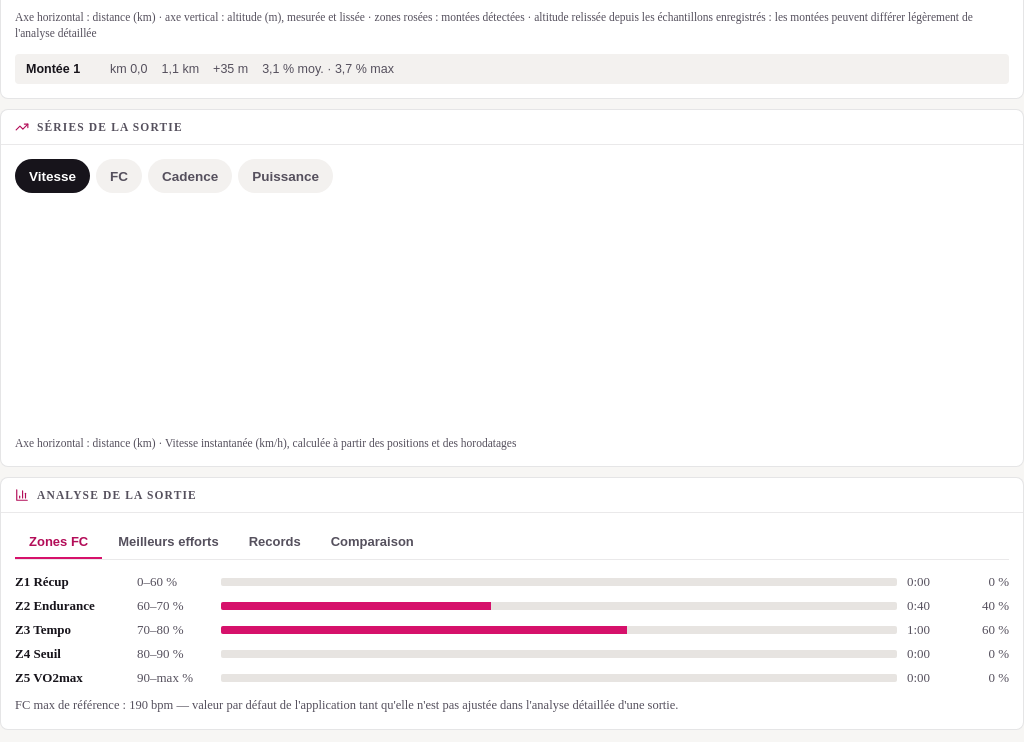
Test: CockpitDashboard — analyse › records : liste les records de l'historique et signale la sortie qui en détient un
This screenshot has width=1024, height=742.
(page scrolled)
Click the tab "Records": click(275, 542) [235,526,315,559]
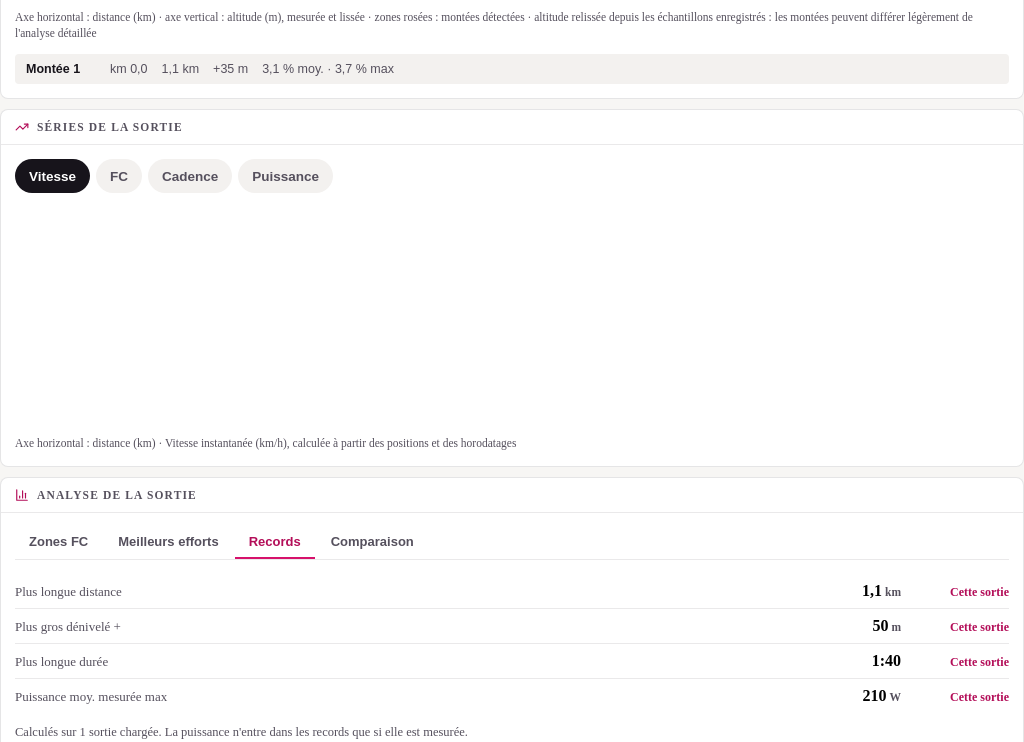
Expected: the text "Plus longue distance" is shown, [15,584,122,599]
Expected: the text "Cette sortie" in the row of "Plus longue distance" is shown, [950,585,1009,599]
